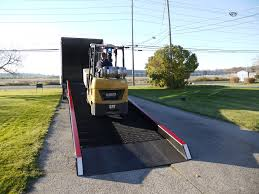Pallet Jack: (81, 42, 132, 120)
Yard Ramp: (66, 80, 193, 178)
